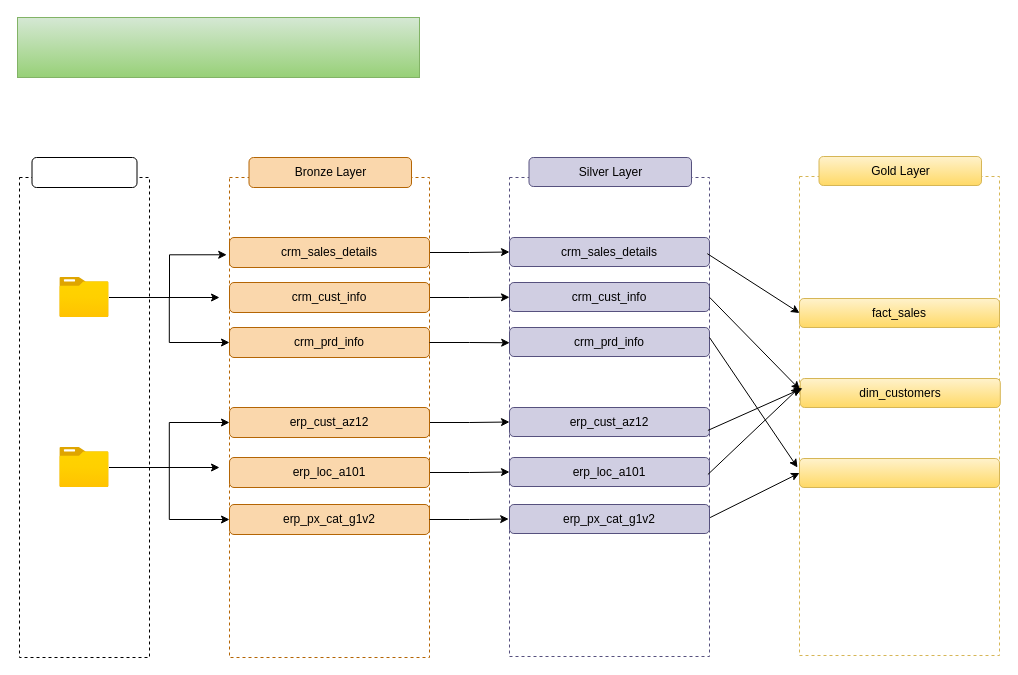
Image size: 1018x675. Some labels were removed from this diagram. The centre of each missing label's shape, as x and y in pixels:
"CRM" goes at point 84,297.
"Data Flow Diagram" goes at point 218,47.
"dim_product" goes at point 899,473.
"ERP" goes at point 84,467.
"Sources" goes at point 84,172.
